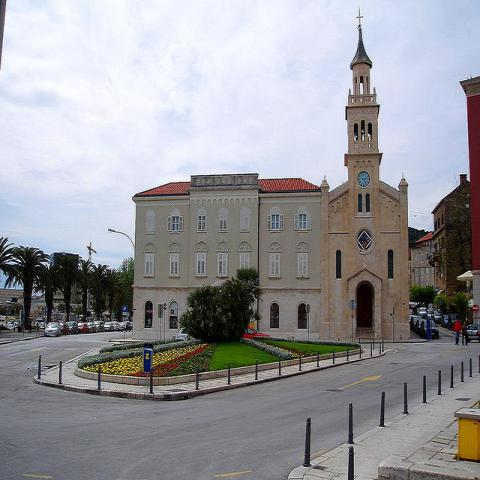car: (3, 300, 440, 354), (420, 319, 439, 339), (466, 323, 480, 344), (44, 322, 63, 337), (446, 314, 463, 330), (66, 320, 78, 334), (120, 321, 131, 332), (103, 321, 114, 332), (59, 322, 69, 334), (87, 321, 97, 333), (94, 320, 104, 332), (113, 322, 119, 330)
